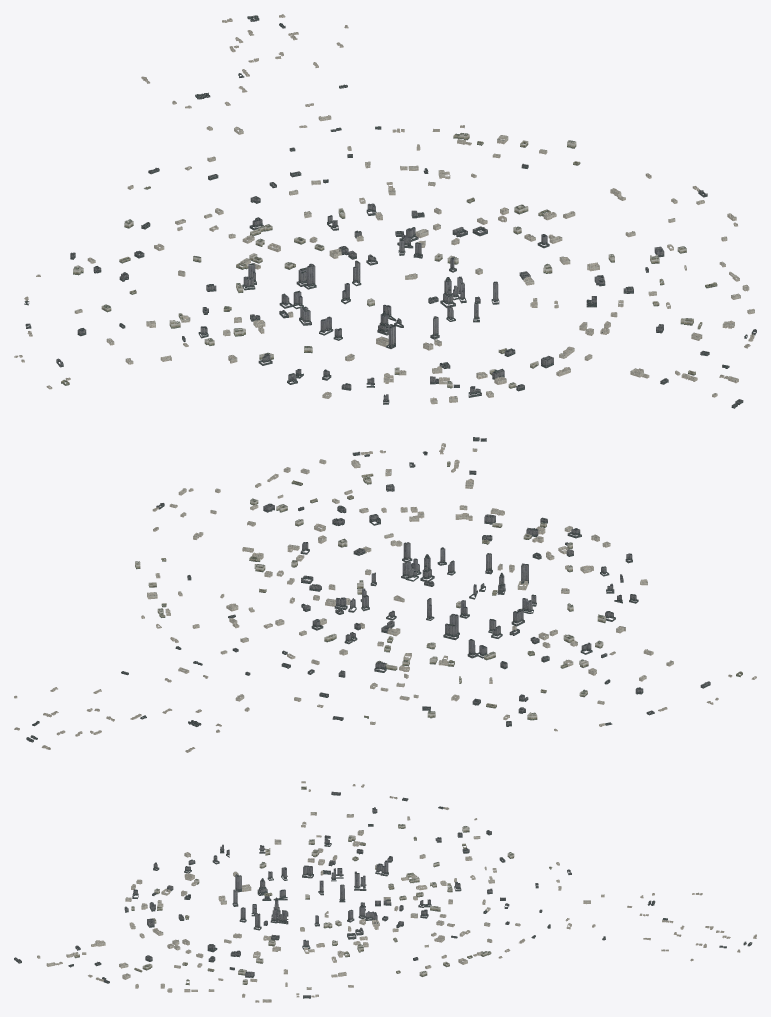
The model's file is city_3d_model_7.glb.
The picture shows the model from 3 angles, top to bottom: view 1: azimuth 30°, elevation 25°; view 2: azimuth 150°, elevation 25°; view 3: azimuth 270°, elevation 25°; orthographic projection. The views are drawn at different scales.
Visible parts, largest first — view 1: Object_222, Object_58, Object_184; view 2: Object_222, Object_58, Object_184; view 3: Object_222, Object_58, Object_184.
Boxes of the visible parts, x1,y1,x2,y2 form: Object_222: (24, 15, 756, 408); Object_58: (14, 14, 754, 404); Object_184: (61, 133, 717, 388); Object_222: (26, 437, 710, 742); Object_58: (14, 443, 756, 752); Object_184: (135, 461, 742, 720); Object_222: (14, 791, 752, 998); Object_58: (37, 781, 756, 1002); Object_184: (74, 786, 552, 985).
Bounding box in the file's own units: 748 × 44.98 × 977.
Materials: 3 (3 with a texture image).
